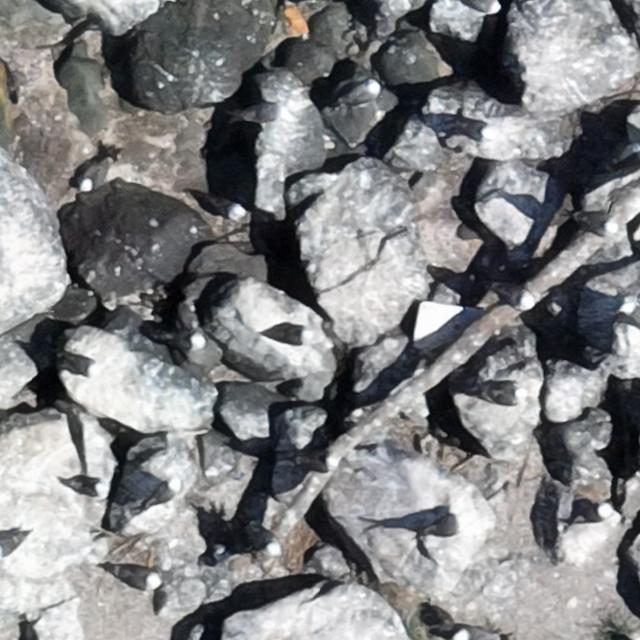umineko: (59, 352, 104, 379), (495, 282, 537, 308), (159, 326, 205, 349), (293, 451, 339, 474), (428, 512, 470, 537), (200, 199, 244, 221), (250, 526, 280, 558), (148, 478, 184, 504), (482, 385, 526, 406), (116, 568, 158, 590), (576, 212, 618, 234), (573, 503, 610, 527), (453, 120, 495, 141), (240, 104, 289, 122), (81, 161, 111, 189), (264, 325, 306, 344), (343, 81, 380, 102), (64, 478, 107, 496), (461, 0, 501, 13), (456, 627, 496, 639), (1, 536, 21, 559)
